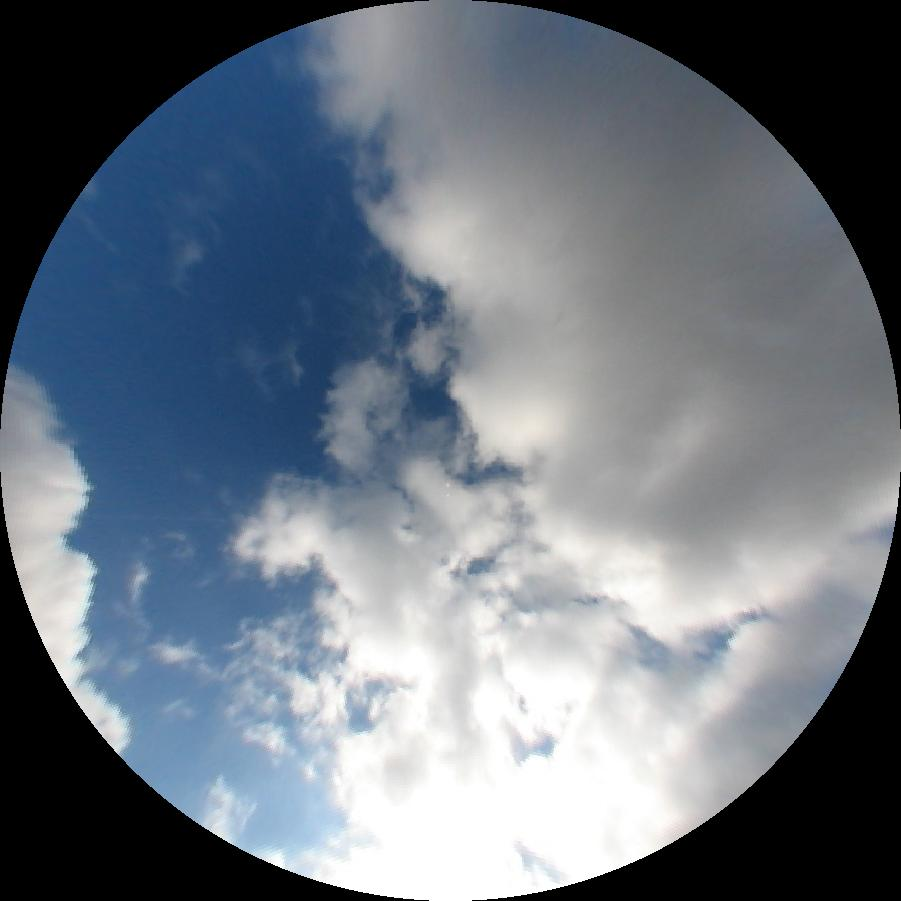parasite: (79, 514, 245, 524)
sun: (382, 788, 516, 900)
